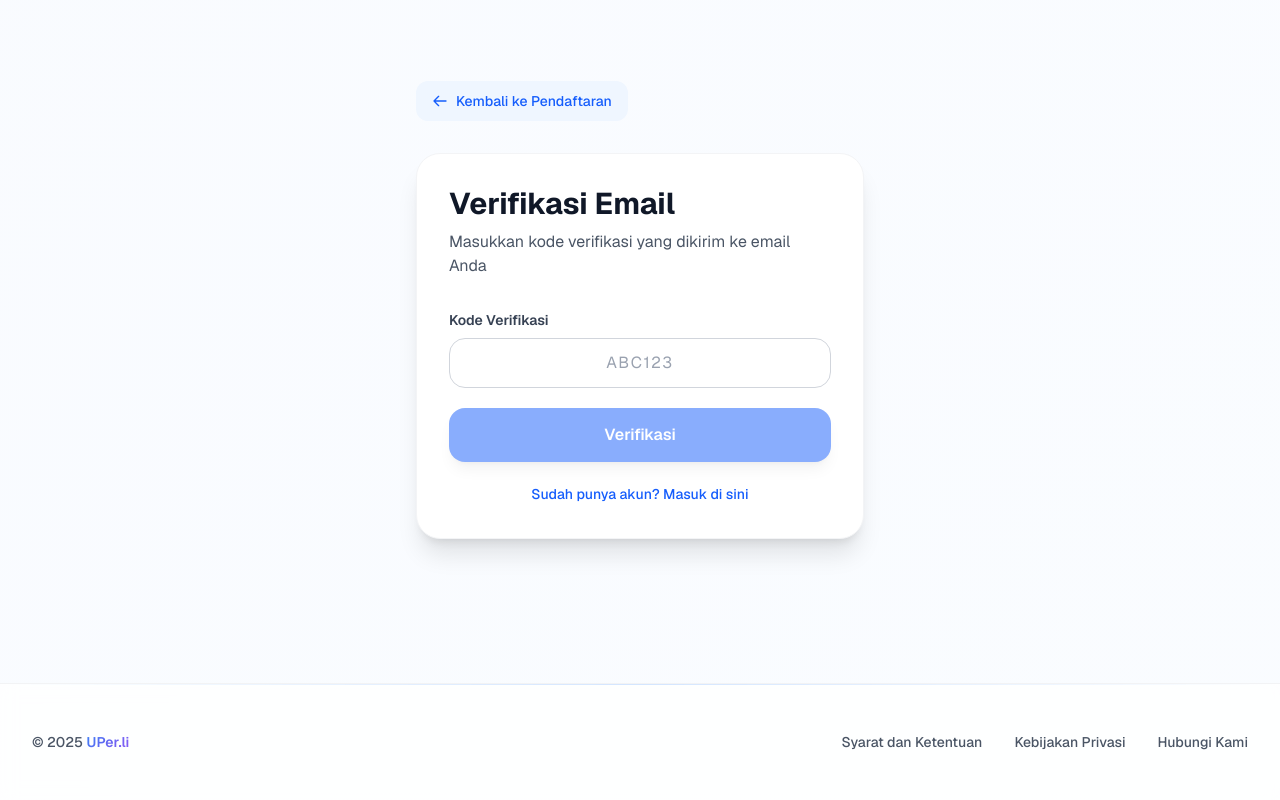
Test: VerifyPage › handles verification error
Note: Enter code
Type "123456" into the field with placeholder "ABC123" at coordinates (640, 362), box [449, 338, 831, 388]
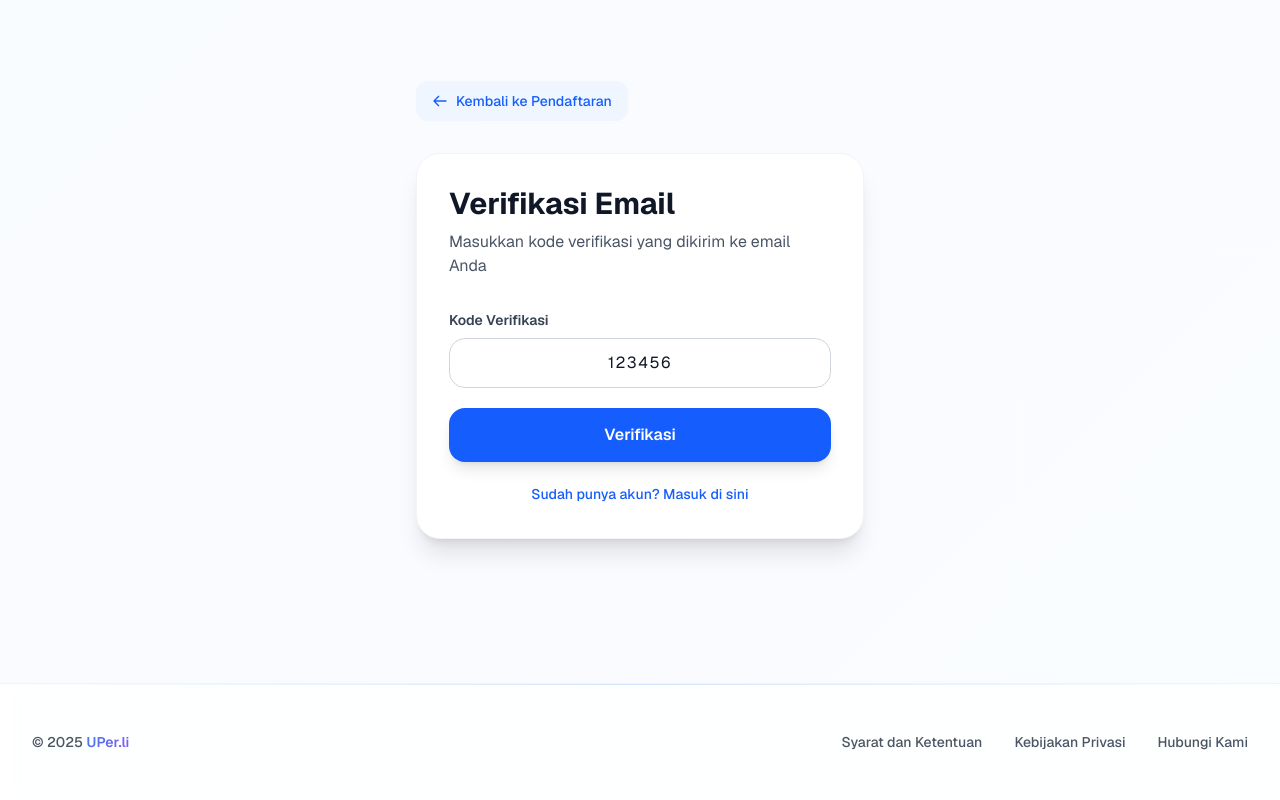
Click the button "Verifikasi" at coordinates (640, 434), box [449, 408, 831, 462]
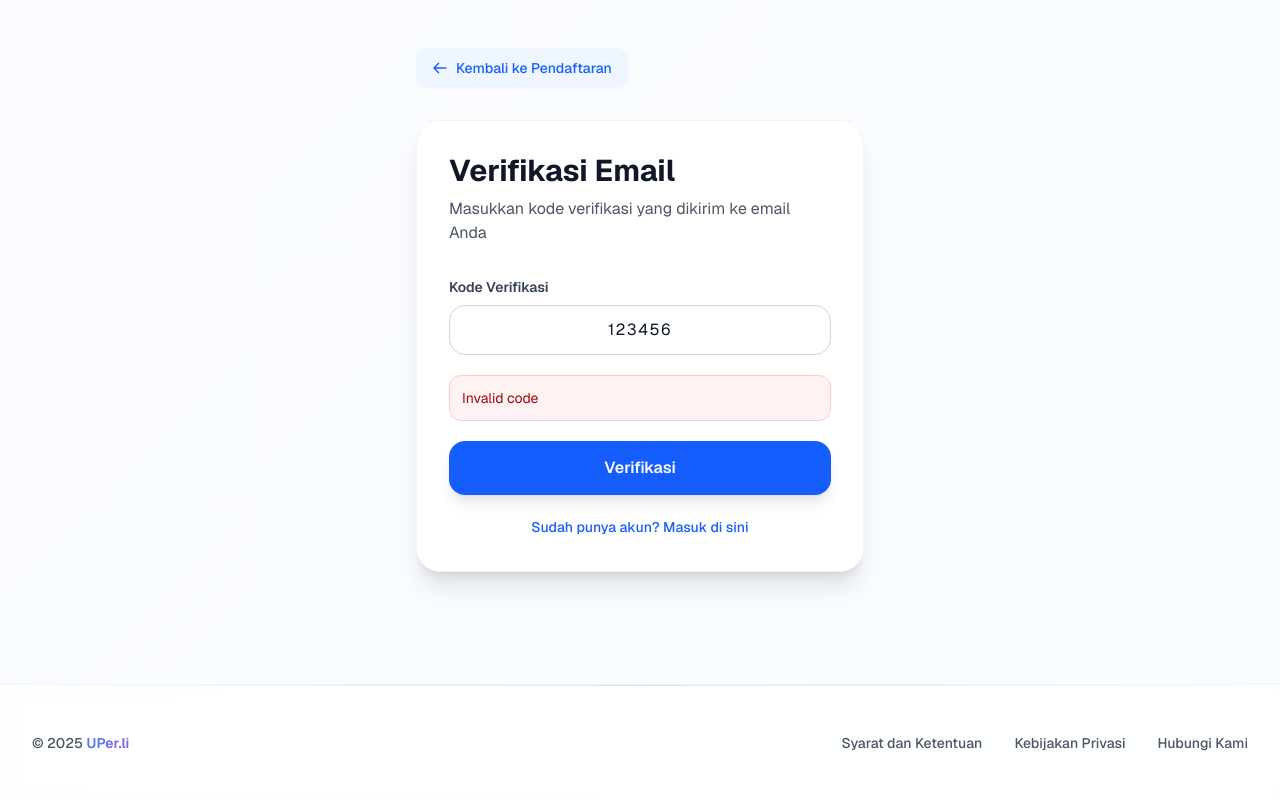
Expected: the text "Invalid code" is shown, [462, 389, 538, 407]
